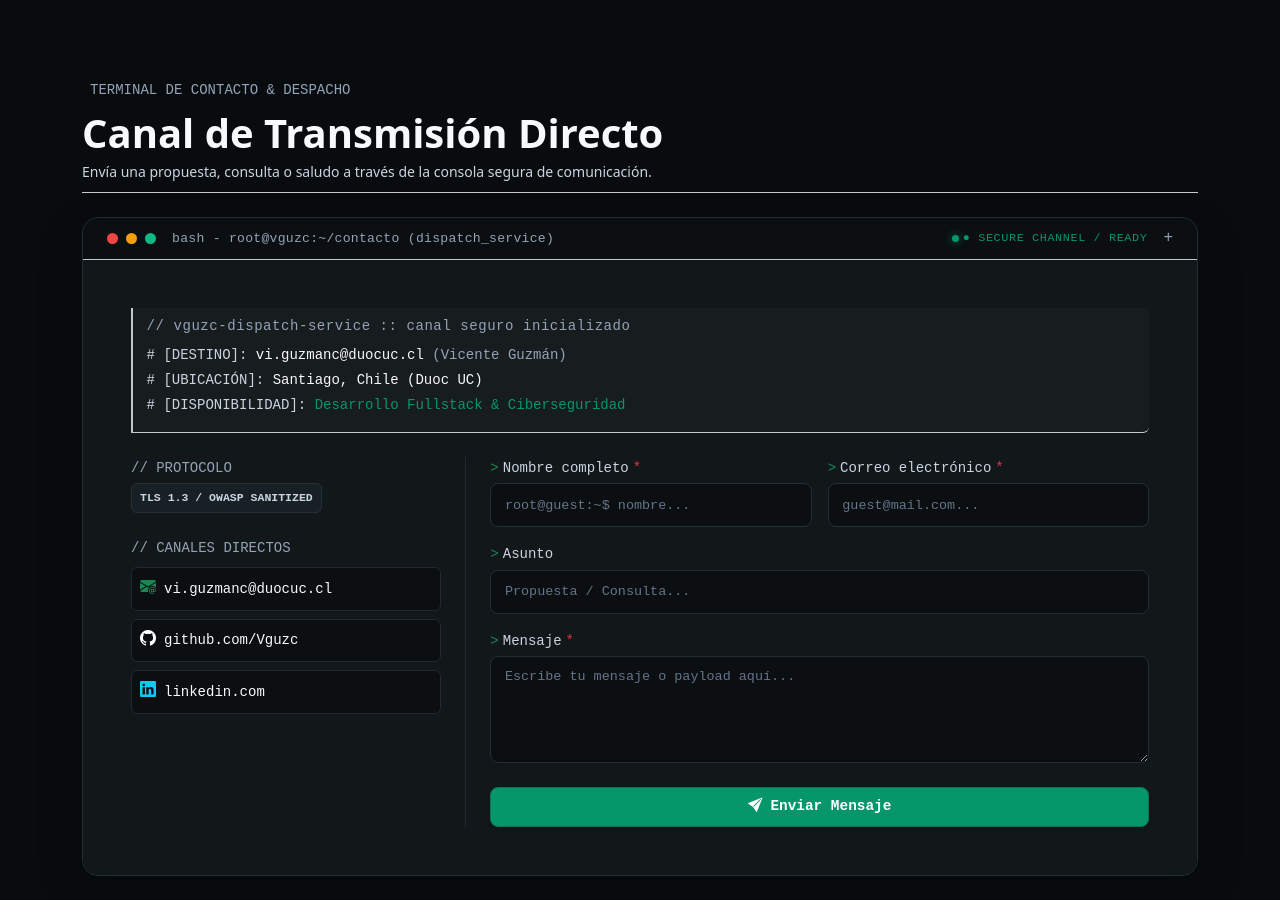
Scenario: Componente Contact (Manejo de estado, eventos y validación) › debe mostrar una alerta de error si se intenta enviar vacío
Click the button "Enviar Mensaje": [820, 807] box [490,787,1149,827]
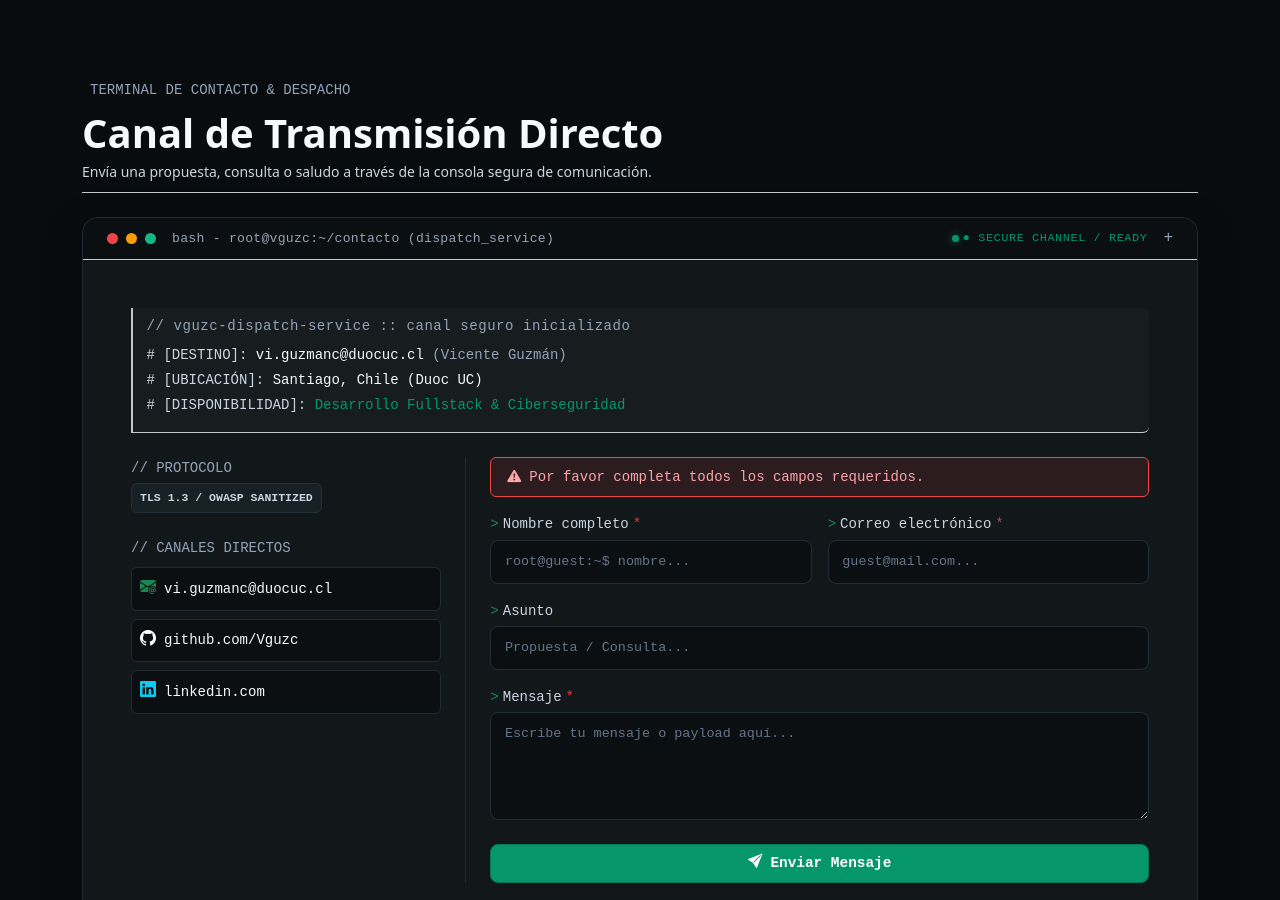
Result: the message "Por favor completa todos los campos requeridos." is shown at [490,457,1149,497]
Result: the message with test id "contact-error-alert" reads "Por favor completa todos los campos requeridos." at [529,469,924,485]
